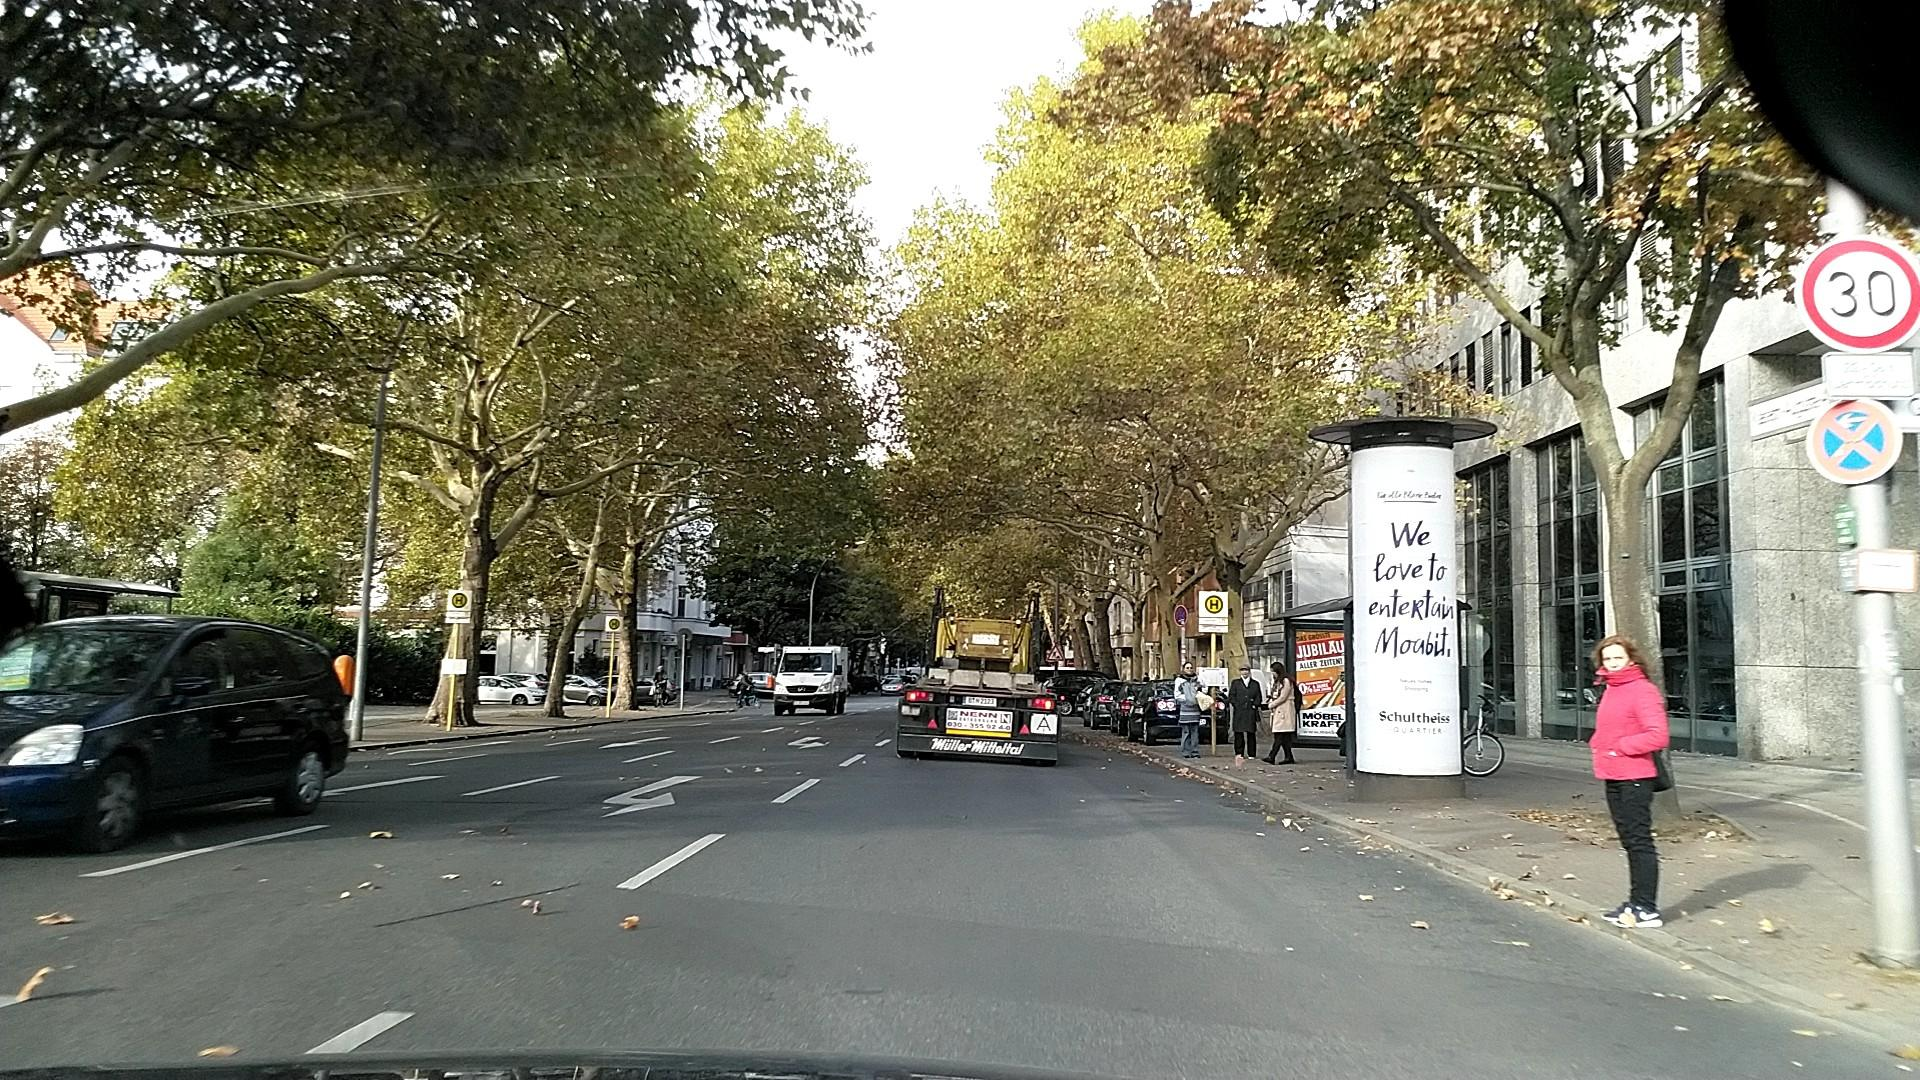Human face: (1598, 638, 1632, 675), (1269, 664, 1281, 680), (1238, 666, 1251, 679), (1182, 662, 1193, 674)
Vehicle registration plate: (960, 694, 997, 708), (793, 700, 810, 706)
